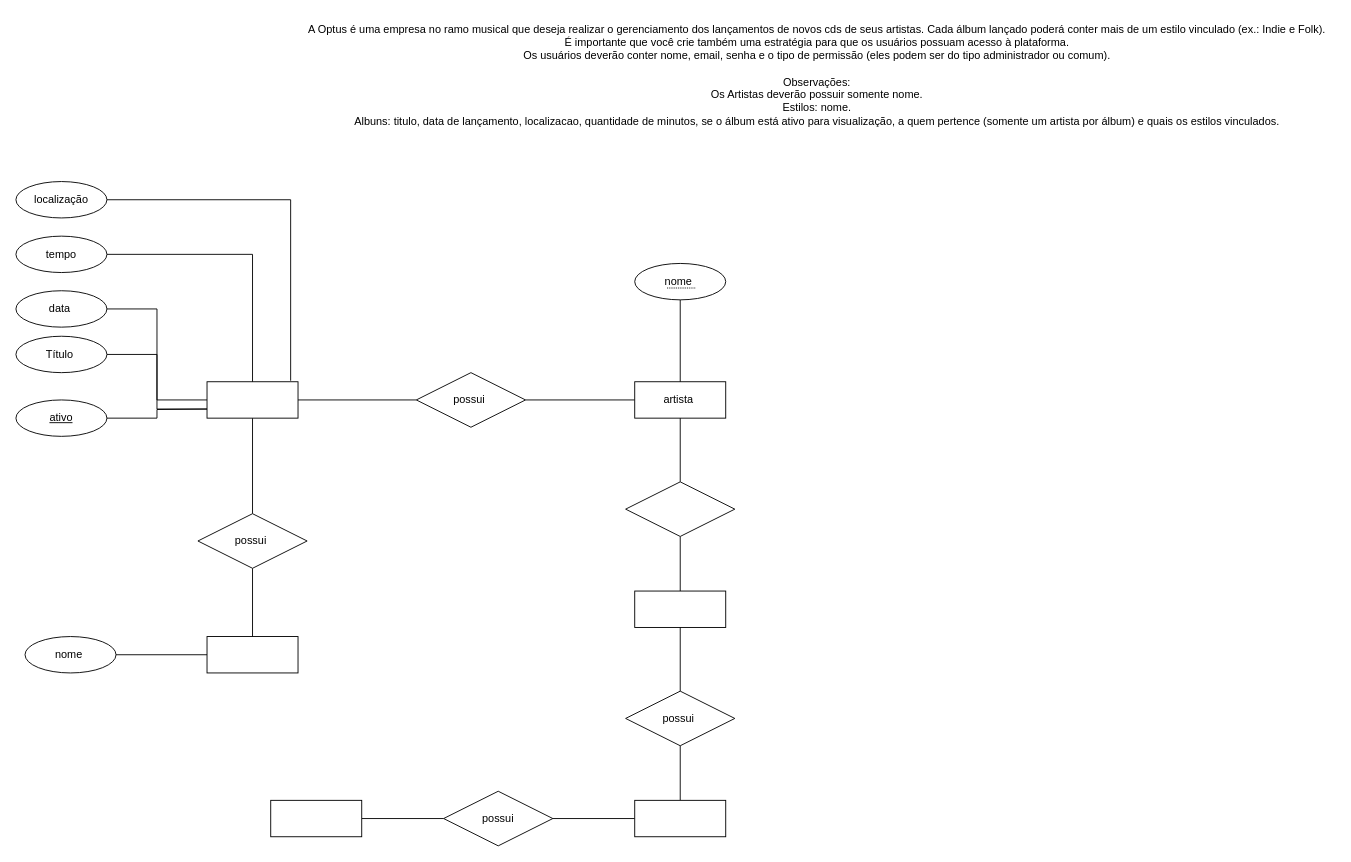
Some shapes in this 1351 by 862 pixel diagram are drawn without their labels. The shapes that lost their labels are listed below. From the top down, each one's centre as x and y in pixels, then its label:
pixel 252 399: álbum
pixel 680 508: Relationship
pixel 680 608: empresa
pixel 252 654: estilo
pixel 316 818: Usuários
pixel 680 818: plataforma
